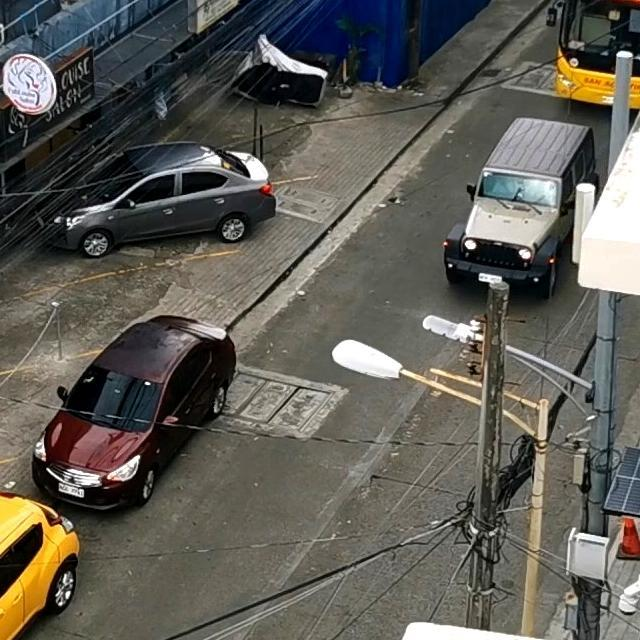Car: (32, 316, 238, 505), (441, 120, 588, 300), (40, 158, 274, 261), (0, 480, 78, 640)
